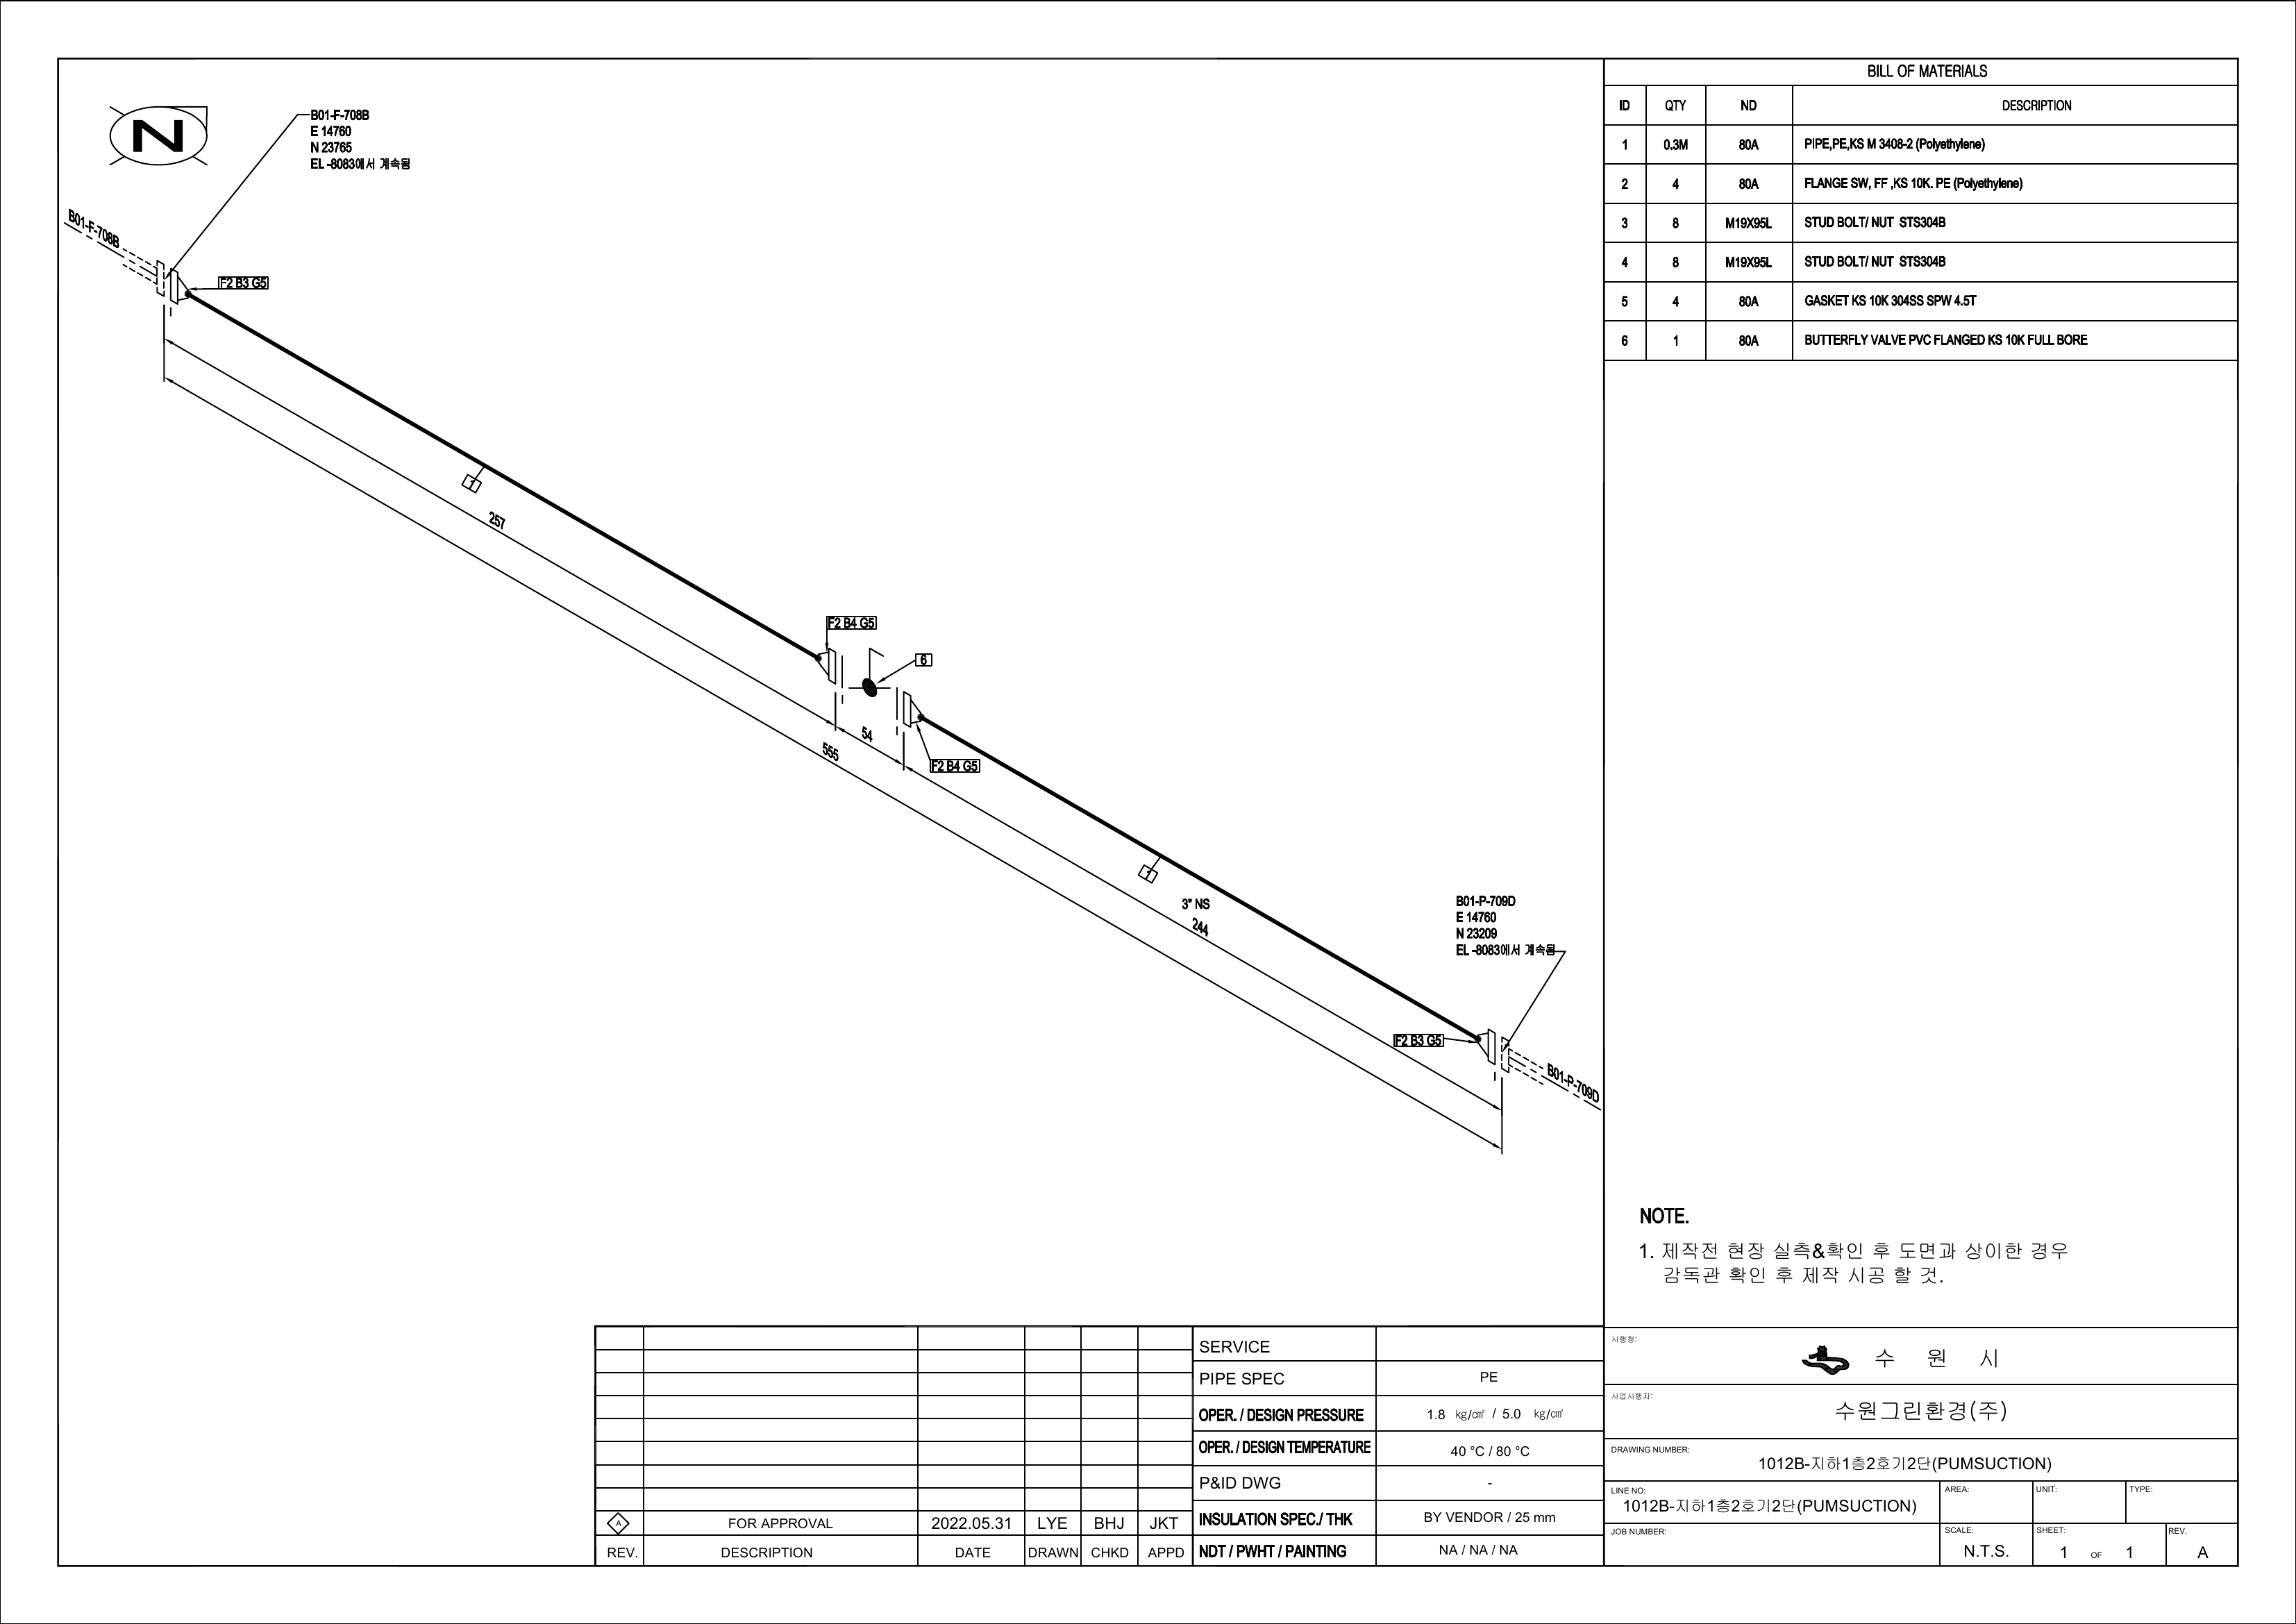table: (1595, 53, 2245, 367)
